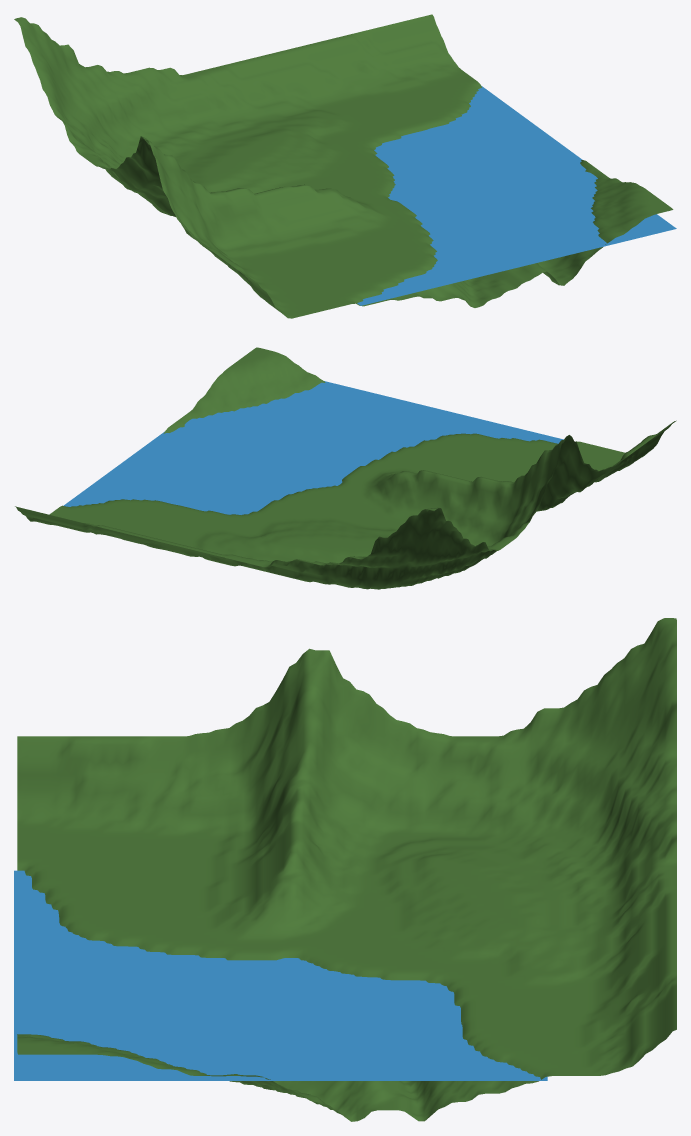
3 renders of one model, top to bottom at view 1: azimuth 30°, elevation 25°; view 2: azimuth 150°, elevation 25°; view 3: azimuth 270°, elevation 25°, orthographic. The views are drawn at different scales.
Visible parts, largest first — view 1: Grid_001, Grid; view 2: Grid_001, Grid; view 3: Grid_001, Grid.
Boxes of the visible parts, x1=… form: Grid_001: x1=14, y1=14, x2=673, y2=318; Grid: x1=357, y1=86, x2=676, y2=305; Grid_001: x1=15, y1=347, x2=676, y2=589; Grid: x1=63, y1=381, x2=563, y2=514; Grid_001: x1=17, y1=618, x2=676, y2=1121; Grid: x1=14, y1=870, x2=547, y2=1080.
Size of the model in its own units: 200 by 200 by 75.21.
